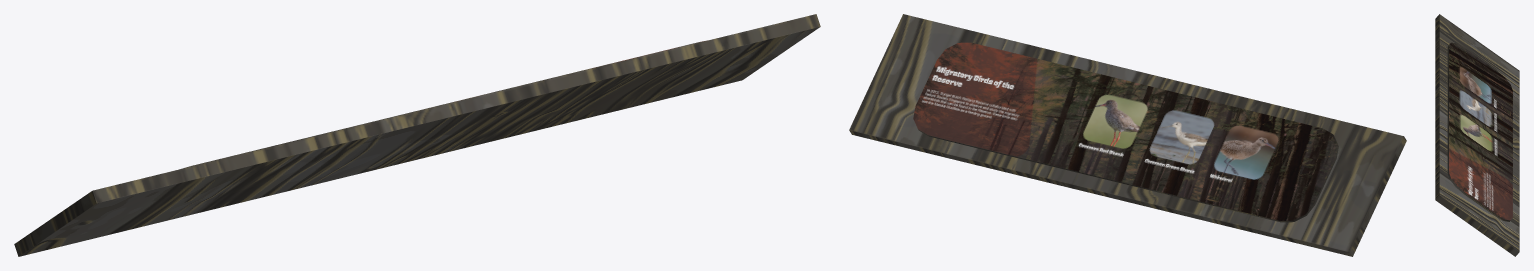
The model's file is MigratoryBirds.fbx.
3 views of the same model, side by side, from view 1: azimuth 30°, elevation 25°; view 2: azimuth 150°, elevation 25°; view 3: azimuth 270°, elevation 25° (orthographic). The views are drawn at different scales.
Visible parts, largest first — view 1: MigratoryBirds; view 2: MigratoryBirds; view 3: MigratoryBirds.
Part boxes in pixels (x1,y1,x2,y2): MigratoryBirds: (14, 14, 820, 256); MigratoryBirds: (849, 14, 1406, 256); MigratoryBirds: (1435, 14, 1519, 256).
Size of the model in its own units: 1.02 by 0.1623 by 0.2011.
1 material, 1 textured.
